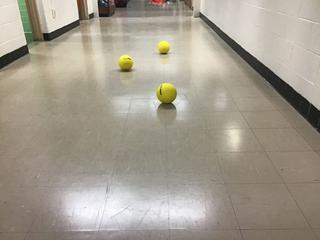power_cell: (155, 81, 179, 108), (156, 39, 174, 57), (117, 55, 134, 70)
